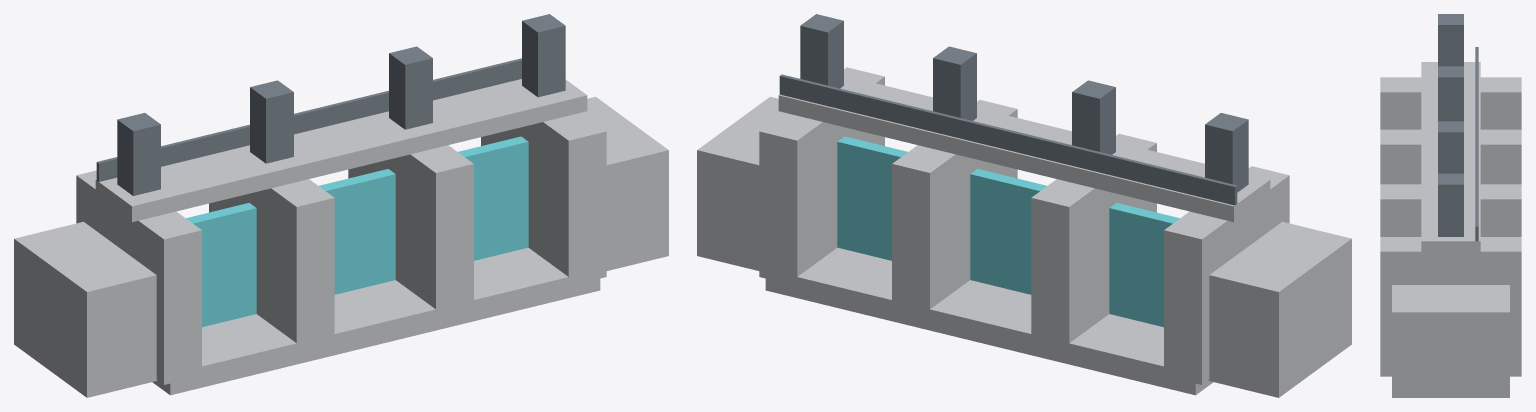
Rendered from flood-gate.glb.
3 renders of one model, left to right at view 1: azimuth 30°, elevation 25°; view 2: azimuth 150°, elevation 25°; view 3: azimuth 270°, elevation 25°, orthographic. The views are drawn at different scales.
Visible parts, largest first — view 1: wing-w, deck, sill, pier-1, pier-2, pier-3, pier-0, wing-e, leaf-1, leaf-2, leaf-0, rail (+4 smaller); view 2: wing-w, sill, deck, pier-1, pier-3, pier-2, pier-0, rail, wing-e, leaf-1, leaf-2, leaf-0 (+4 smaller); view 3: wing-e, pier-3, deck, pier-1, pier-0, pier-2, frame-3, frame-1, frame-0, frame-2, rail, sill.
Part boxes in pixels (bbox=[...]): wing-w: bbox=[14, 221, 157, 397]; deck: bbox=[95, 79, 587, 222]; sill: bbox=[152, 247, 600, 395]; pier-1: bbox=[209, 179, 334, 352]; pier-2: bbox=[348, 145, 473, 318]; pier-3: bbox=[481, 113, 606, 283]; pier-0: bbox=[76, 170, 201, 384]; wing-e: bbox=[581, 96, 668, 270]; leaf-1: bbox=[319, 169, 395, 294]; leaf-2: bbox=[458, 136, 528, 260]; leaf-0: bbox=[186, 203, 256, 327]; rail: bbox=[96, 58, 521, 181]; wing-w: bbox=[1208, 221, 1351, 397]; sill: bbox=[765, 247, 1213, 395]; deck: bbox=[778, 75, 1270, 222]; pier-1: bbox=[1031, 133, 1156, 352]; pier-3: bbox=[759, 67, 884, 285]; pier-2: bbox=[892, 100, 1017, 318]; pier-0: bbox=[1164, 166, 1289, 384]; rail: bbox=[779, 74, 1237, 205]; wing-e: bbox=[697, 96, 784, 270]; leaf-1: bbox=[970, 169, 1046, 294]; leaf-2: bbox=[837, 136, 907, 260]; leaf-0: bbox=[1109, 203, 1179, 327]; wing-e: bbox=[1392, 285, 1509, 397]; pier-3: bbox=[1380, 237, 1521, 369]; deck: bbox=[1421, 62, 1480, 254]; pier-1: bbox=[1380, 129, 1521, 184]; pier-0: bbox=[1380, 77, 1521, 129]; pier-2: bbox=[1380, 184, 1521, 236]; frame-3: bbox=[1438, 173, 1463, 236]; frame-1: bbox=[1438, 66, 1463, 121]; frame-0: bbox=[1438, 14, 1463, 66]; frame-2: bbox=[1438, 121, 1463, 173]; rail: bbox=[1475, 47, 1478, 241]; sill: bbox=[1380, 369, 1521, 376].
Bounding box in the file's own units: 46 × 18 × 12.
